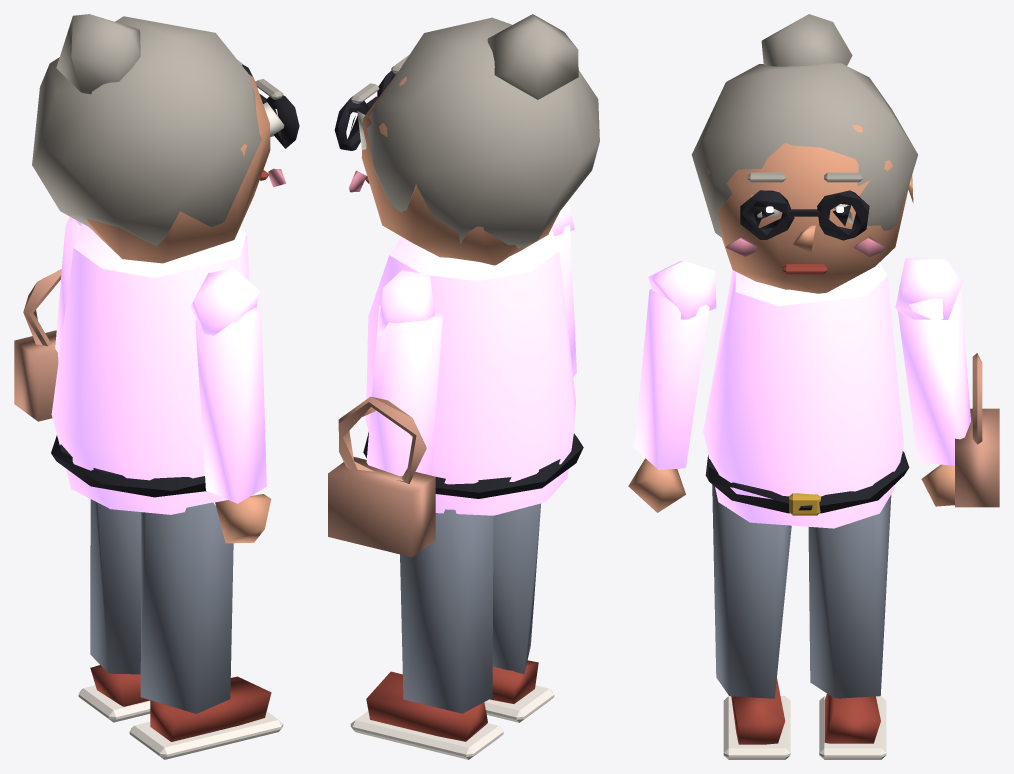
The model's file is ped_granny.glb.
3 views of the same model, side by side, from view 1: azimuth 30°, elevation 25°; view 2: azimuth 150°, elevation 25°; view 3: azimuth 270°, elevation 25° (orthographic). The views are drawn at different scales.
Visible parts, largest first — view 1: ped_granny; view 2: ped_granny; view 3: ped_granny.
Part boxes in pixels (<box>): ped_granny: <box>14,14,299,759</box>; ped_granny: <box>328,14,599,759</box>; ped_granny: <box>628,14,999,759</box>.
Size of the model in its own units: 0.386 by 1.17 by 0.5817.
Materials: 1 (1 with a texture image).
